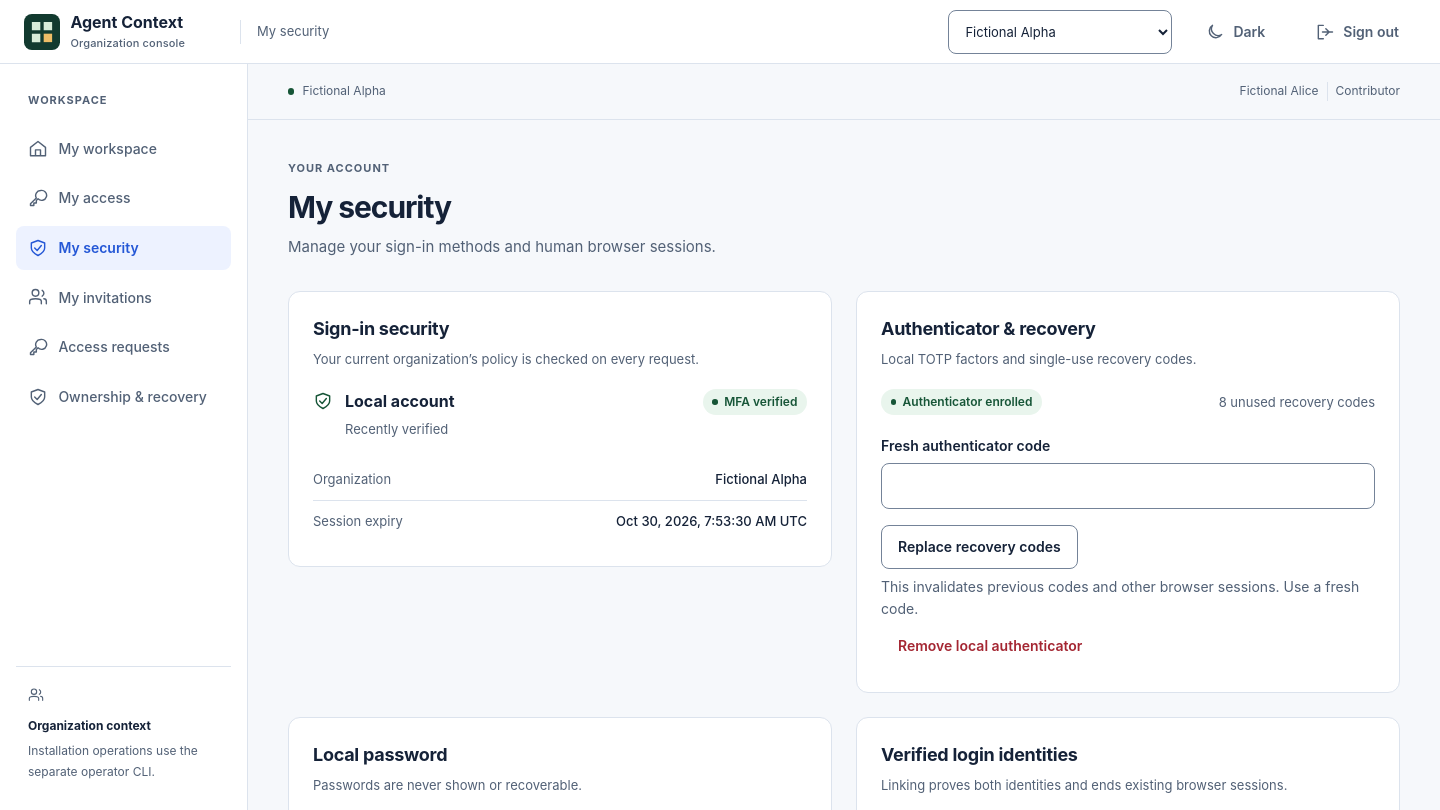
Test: personal security › issues recovery codes once in memory, clears them on acknowledgement
This screenshot has width=1440, height=810.
Type "123456" into the field labelled "Fresh authenticator code". click: (1128, 486)
box: [881,463,1375,509]
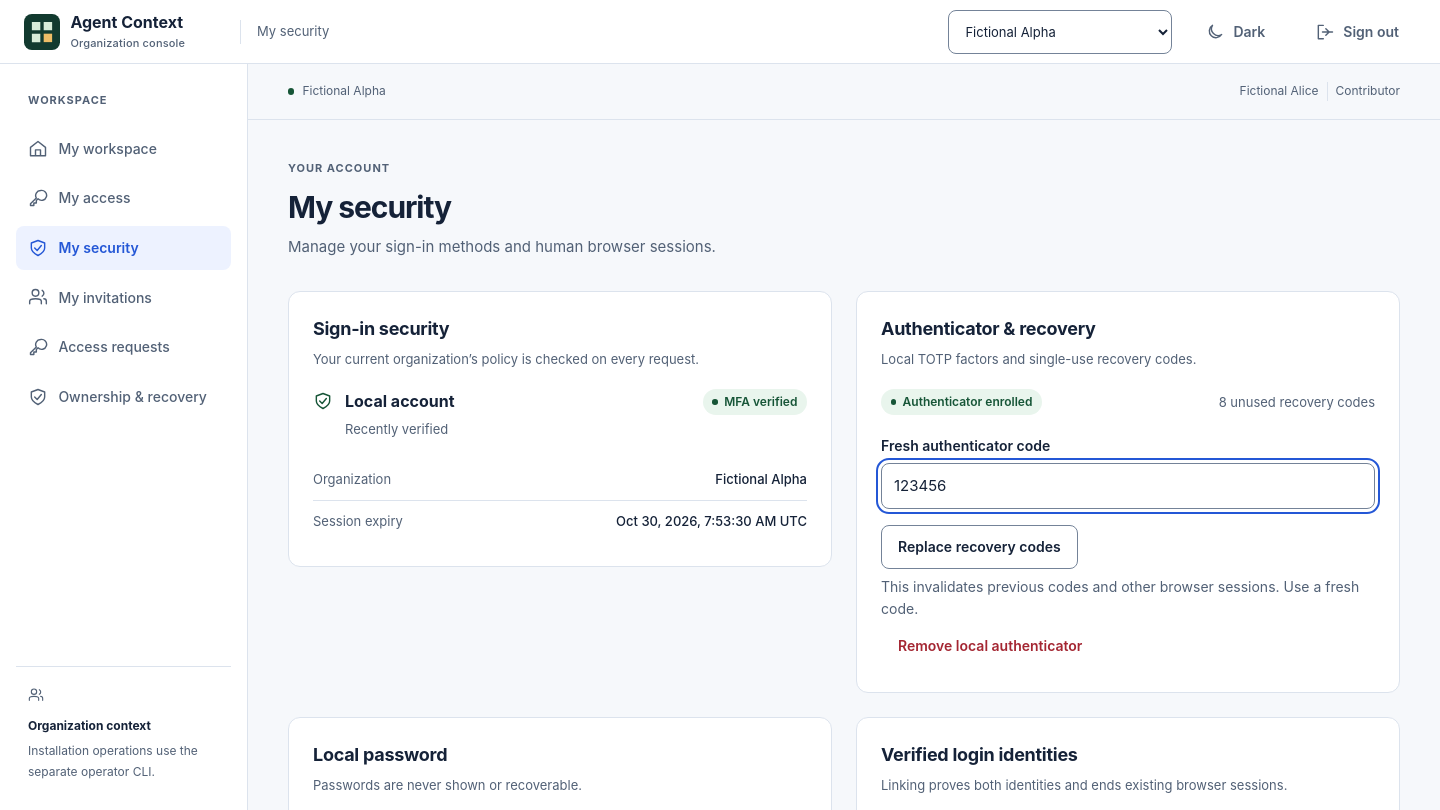
Click the button "Replace recovery codes". click: (979, 547)
box: [881,525,1078,569]
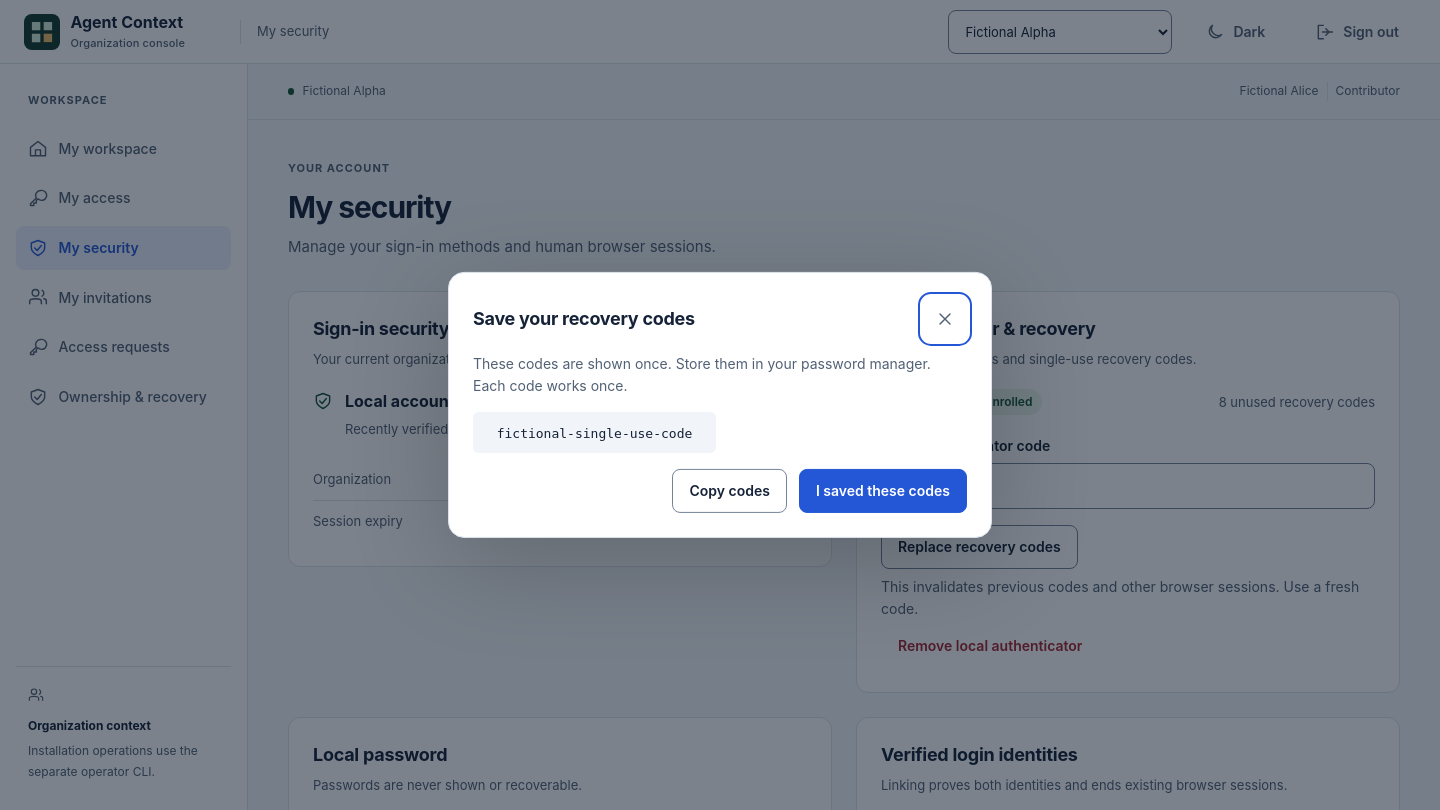
Check: the dialog "Save your recovery codes" is shown, box [448,272,992,538]
Check: the text "fictional-single-use-code" is shown, box [497,426,692,441]
Click the button "I saved these codes". click: (883, 491)
box: [799,469,967,513]
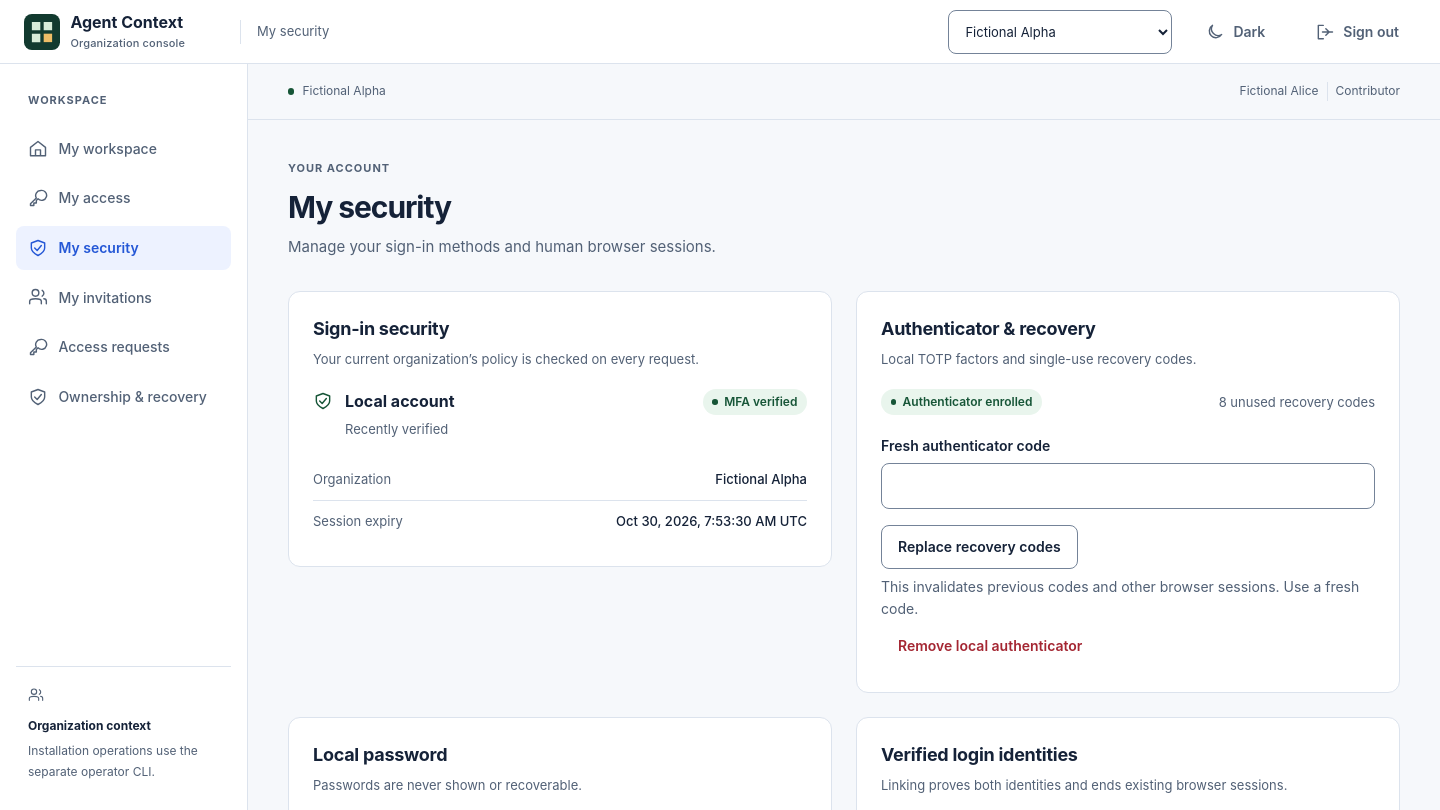
Check: the text "fictional-single-use-code" is gone
